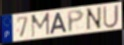7: (16, 16, 29, 39)
A: (49, 12, 68, 36)
M: (31, 12, 51, 39)
N: (85, 6, 103, 32)
P: (67, 9, 85, 34)
U: (103, 3, 120, 29)
